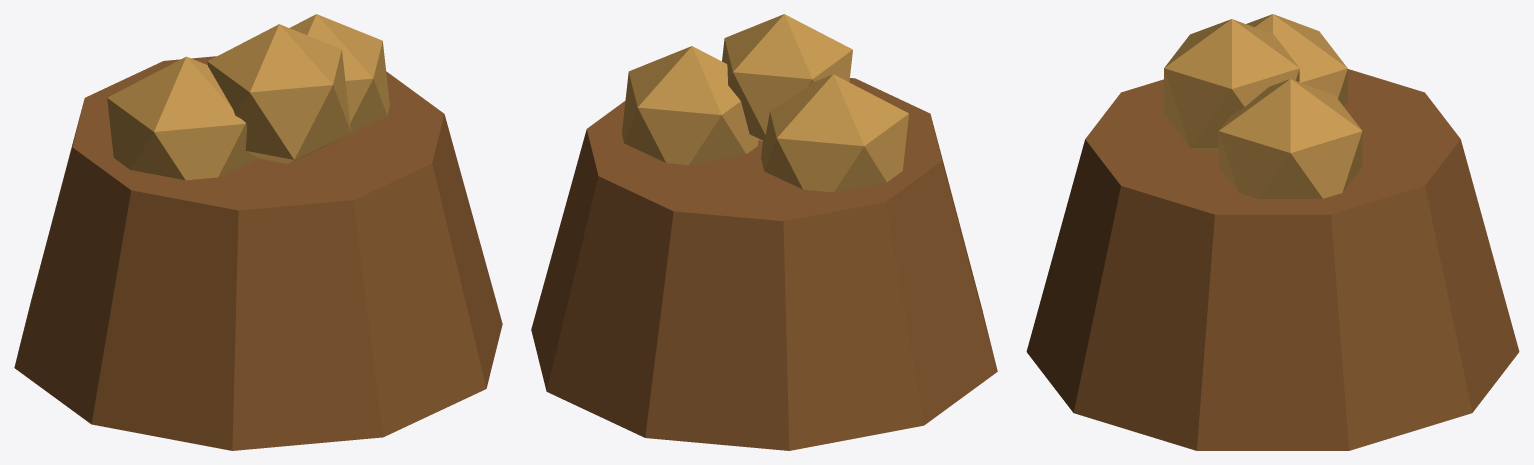
The model's file is pieza-villager-load-food-BCXemDKN.glb.
3 views of the same model, side by side, from view 1: azimuth 30°, elevation 25°; view 2: azimuth 150°, elevation 25°; view 3: azimuth 270°, elevation 25° (orthographic). The views are drawn at different scales.
Visible parts, largest first — view 1: prop_load_food; view 2: prop_load_food; view 3: prop_load_food.
Part boxes in pixels (x1,y1,x2,y2): prop_load_food: [14, 14, 502, 450]; prop_load_food: [531, 14, 997, 450]; prop_load_food: [1026, 14, 1519, 450].
Bounding box in the file's own units: 3.99 × 3.13 × 4.2.
